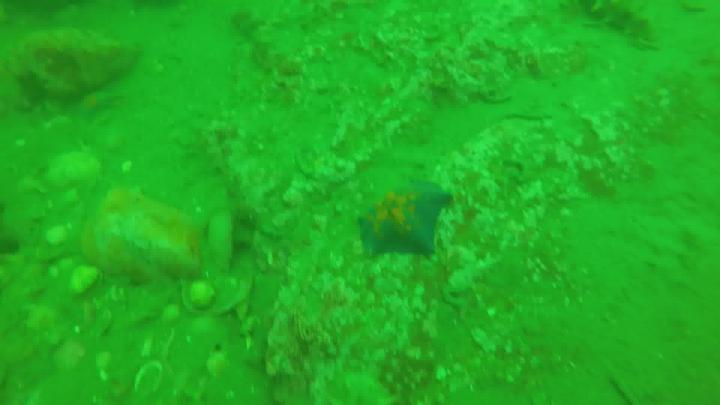holothurian: (578, 1, 659, 46)
scallop: (180, 277, 249, 312), (35, 154, 103, 189), (135, 360, 165, 401), (72, 269, 104, 295)
starfish: (359, 177, 454, 259)
